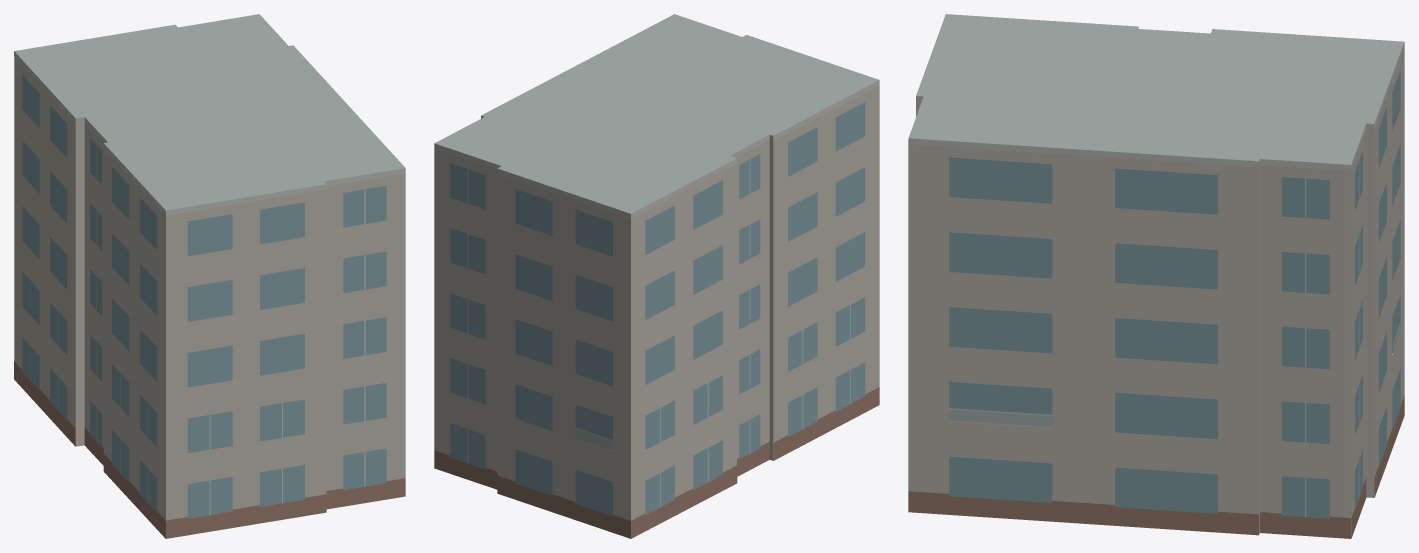
File: survey-upis-32788356.glb
3 views of the same model, side by side, from view 1: azimuth 30°, elevation 25°; view 2: azimuth 150°, elevation 25°; view 3: azimuth 270°, elevation 25° (orthographic). The views are drawn at different scales.
Visible parts, largest first — view 1: survey-upis-32788356.tmp; view 2: survey-upis-32788356.tmp; view 3: survey-upis-32788356.tmp.
Boxes of the visible parts, x1,y1,x2,y2 form: survey-upis-32788356.tmp: (14, 14, 405, 538); survey-upis-32788356.tmp: (434, 14, 879, 538); survey-upis-32788356.tmp: (908, 14, 1404, 538).
Bounding box in the file's own units: 12.95 × 14.95 × 17.99.
